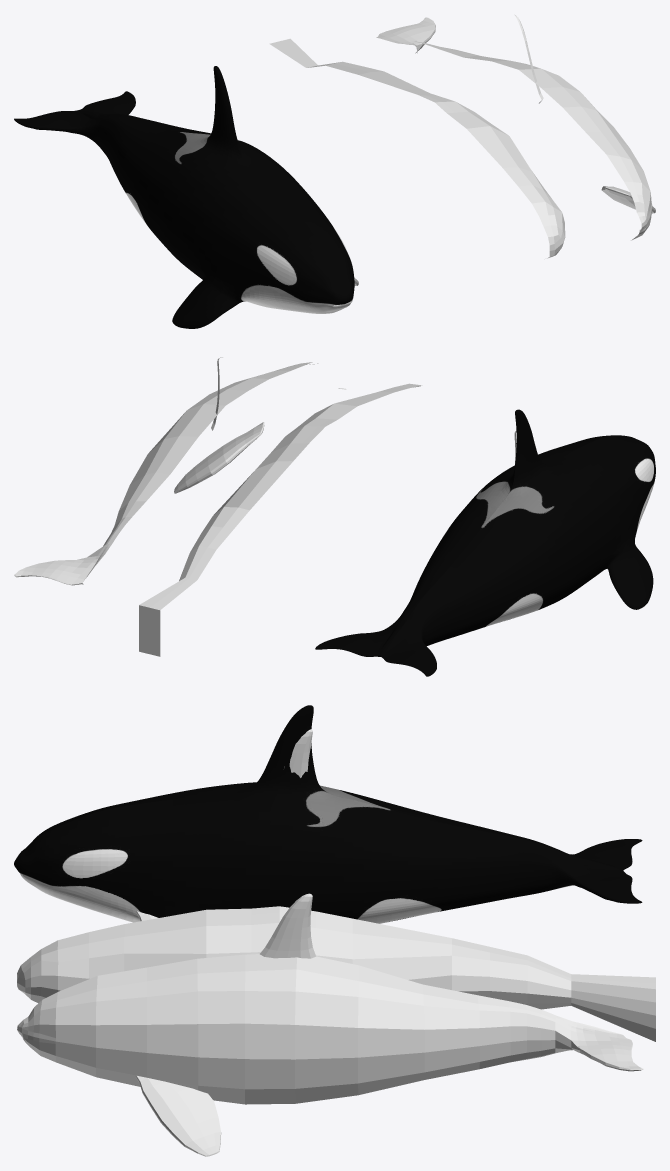
File: syati.glb
3 renders of one model, top to bottom at view 1: azimuth 30°, elevation 25°; view 2: azimuth 150°, elevation 25°; view 3: azimuth 270°, elevation 25°, orthographic. The views are drawn at different scales.
Visible parts, largest first — view 1: 立方体.001, 立方体.006, 立方体; view 2: 立方体.001, 立方体, 立方体.006, 立方体.004; view 3: 立方体.001, 立方体.006, 立方体, 立方体.004, 立方体.005, 立方体.002.
Boxes of the visible parts, box(x1,y1,x2,y2) form: 立方体.001: box(14, 66, 354, 328); 立方体.006: box(376, 17, 652, 240); 立方体: box(269, 38, 565, 258); 立方体.001: box(315, 409, 655, 676); 立方体: box(139, 383, 422, 656); 立方体.006: box(14, 362, 346, 585); 立方体.004: box(174, 422, 264, 493); 立方体.001: box(14, 705, 642, 923); 立方体.006: box(17, 954, 643, 1104); 立方体: box(17, 906, 655, 1041); 立方体.004: box(135, 1075, 221, 1156); 立方体.005: box(260, 893, 315, 958); 立方体.002: box(284, 729, 312, 777).
Size of the model in its own units: 2.26 by 0.9493 by 2.33.
1 material, 1 textured.
